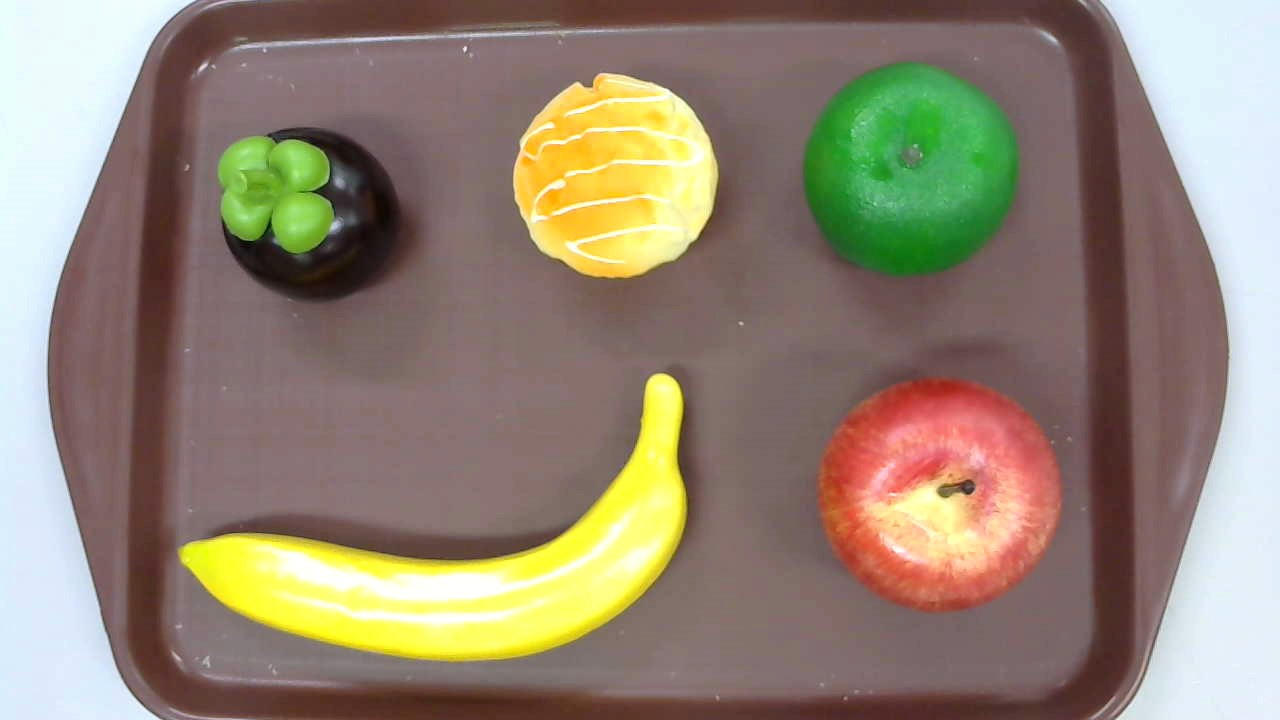banana: (175, 372, 688, 663)
cupcake: (513, 72, 719, 281)
green orange: (805, 62, 1017, 280)
mangosteen: (217, 127, 401, 304)
red apple: (816, 374, 1065, 615)
